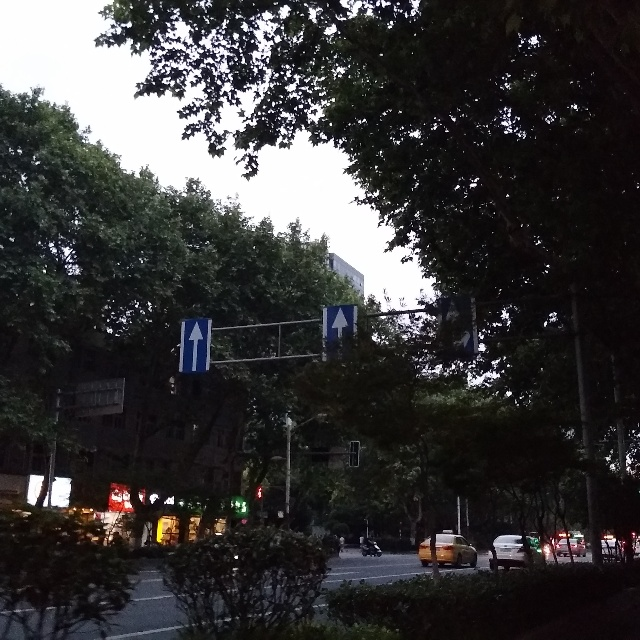straight: (320, 303, 362, 370), (174, 315, 214, 374)
